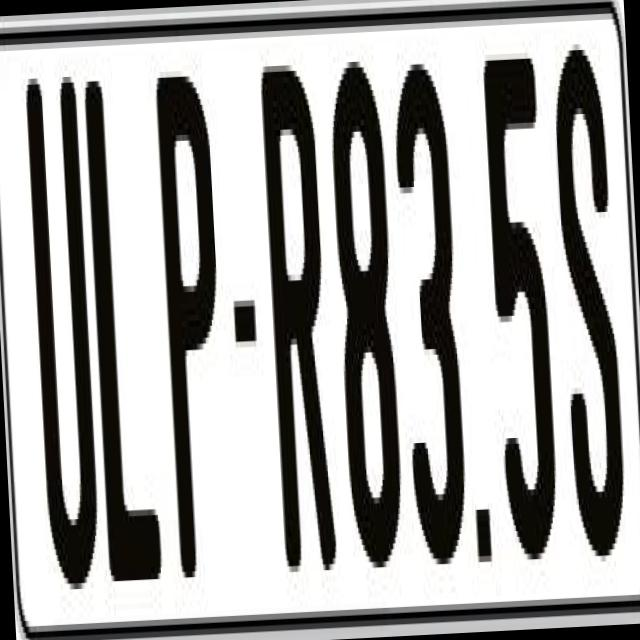3: (392, 62, 479, 588)
5: (478, 59, 560, 572)
8: (327, 61, 413, 574)
L: (82, 68, 165, 570)
P: (156, 58, 236, 590)
R: (258, 46, 338, 572)
S: (550, 38, 629, 574)
U: (20, 65, 101, 608)
